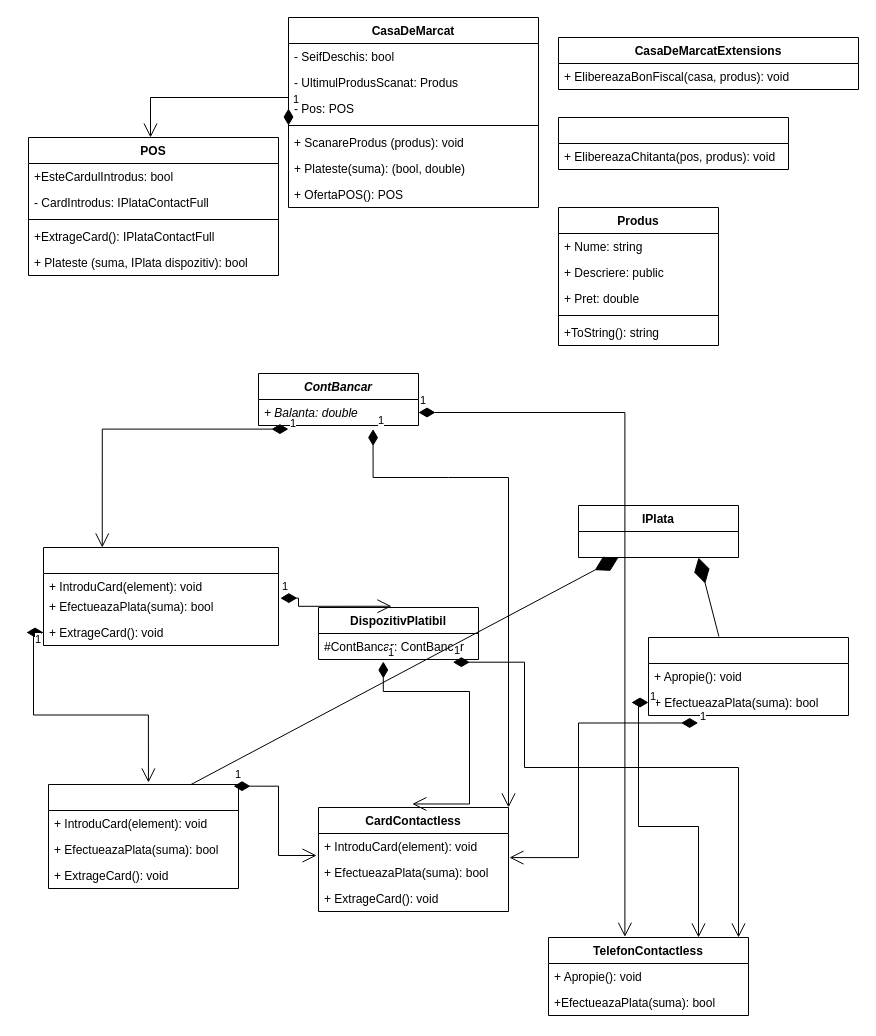
The diagram is 876 pixels wide and 1036 high, and some of its shapes have lost their labels. Each missing label, with the box of its shape:
CardClasic: (42, 546, 278, 646)
IPlataContactFull: (48, 784, 238, 888)
IPlataContactless: (648, 636, 848, 716)
POSExtensions: (558, 116, 788, 170)
